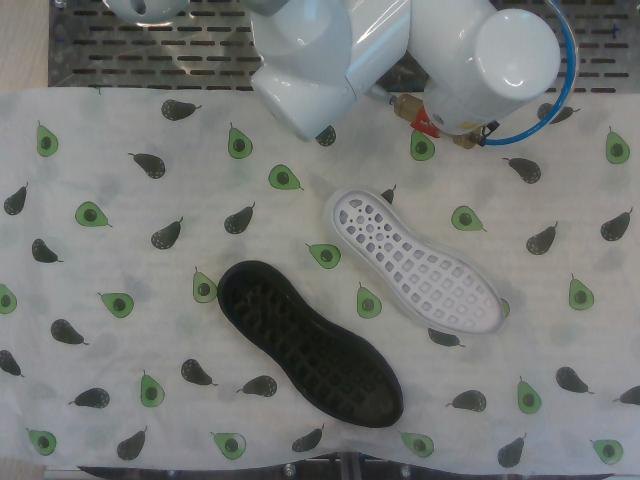shoes: (223, 270, 401, 426), (333, 190, 504, 335)
